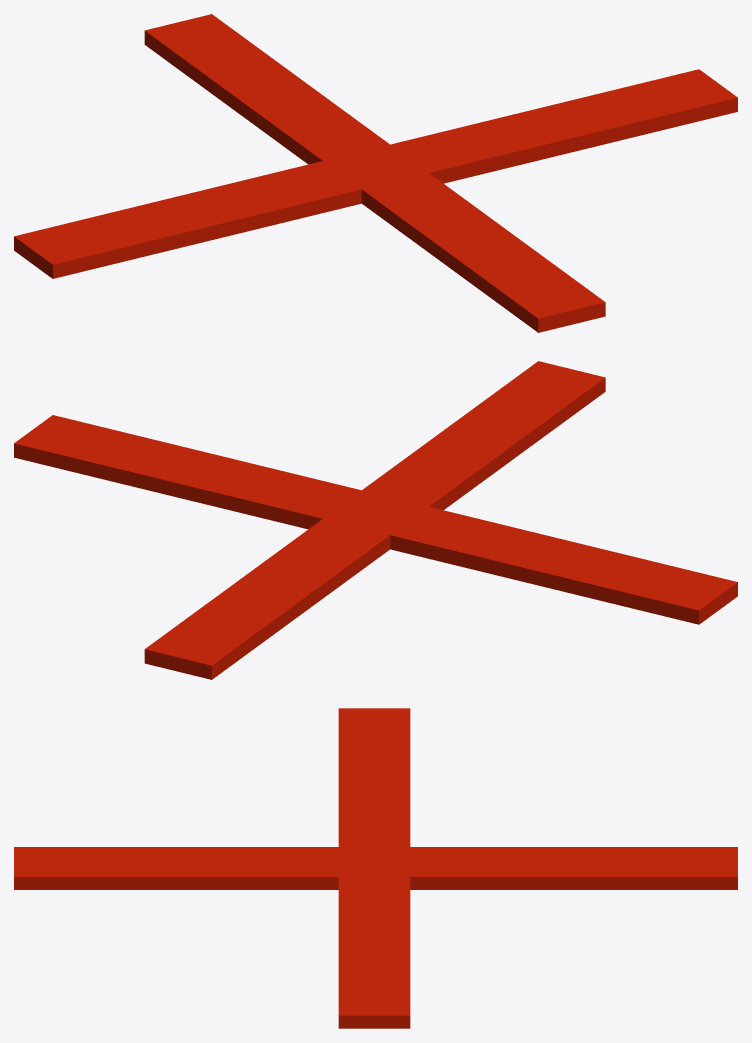
Rendered from target_4.dae.
The picture shows the model from 3 angles, top to bottom: view 1: azimuth 30°, elevation 25°; view 2: azimuth 150°, elevation 25°; view 3: azimuth 270°, elevation 25°; orthographic projection. The views are drawn at different scales.
Parts seen in each view (by area): view 1: Cube; view 2: Cube; view 3: Cube.
Part boxes in pixels (<box>): Cube: <box>14,14,737,332</box>; Cube: <box>14,361,737,679</box>; Cube: <box>14,708,737,1028</box>.
Size of the model in its own units: 0.5911 by 0.5884 by 0.0117.
